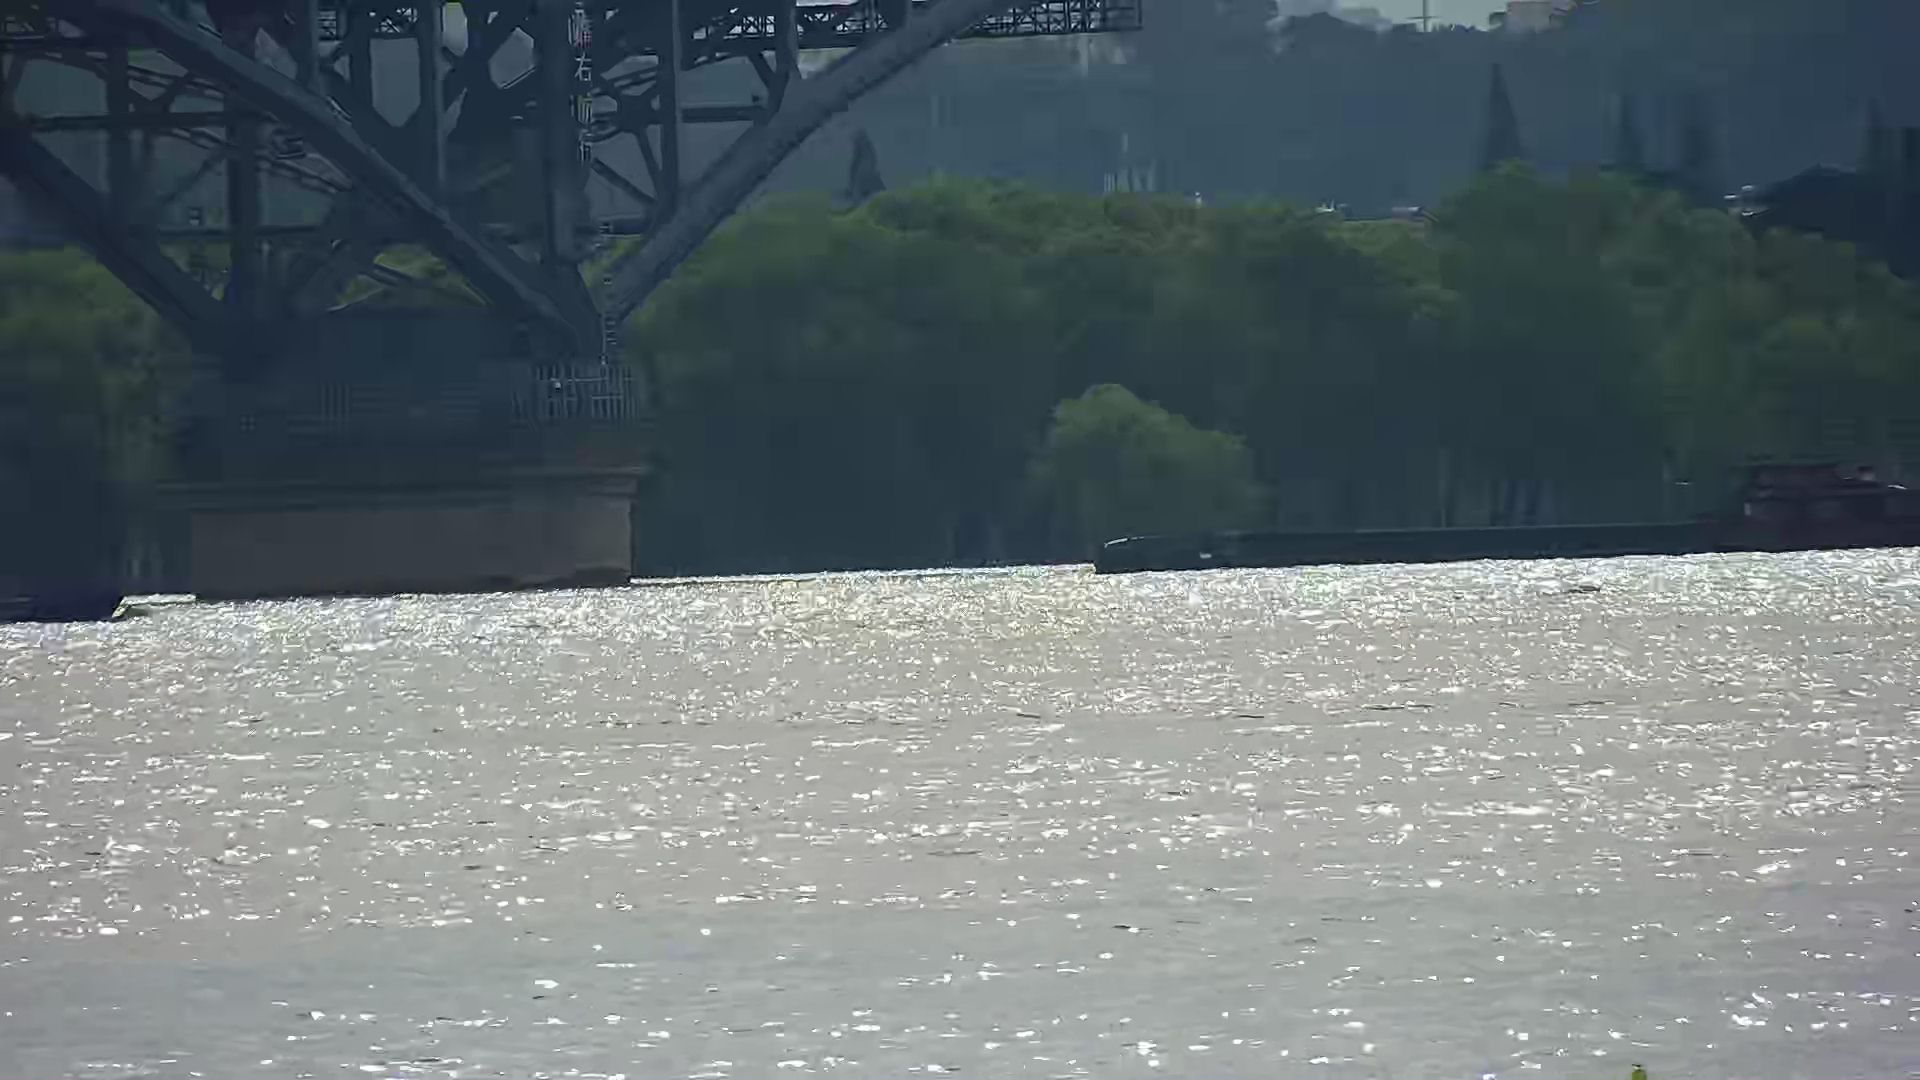boat: (1, 589, 129, 620)
bridge: (1, 3, 1145, 597)
ship: (1097, 456, 1917, 575)
